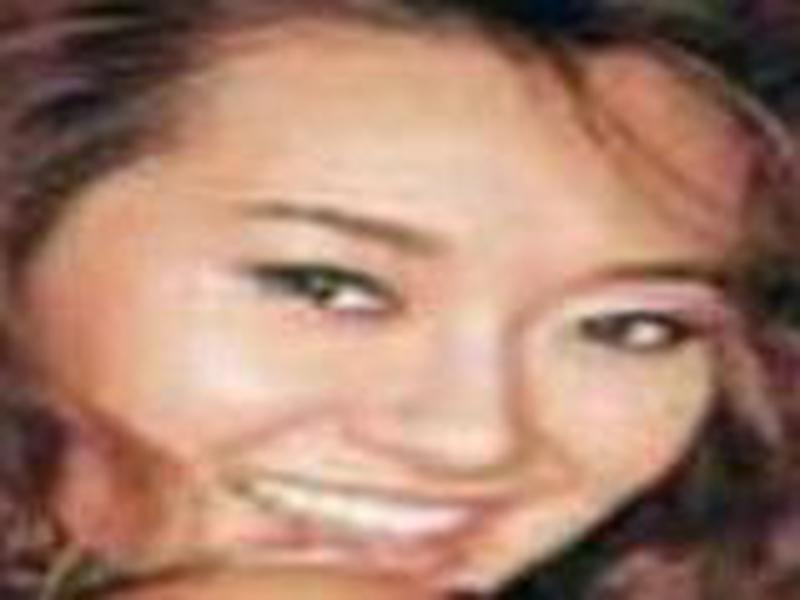without_mask: (80, 42, 723, 599)
